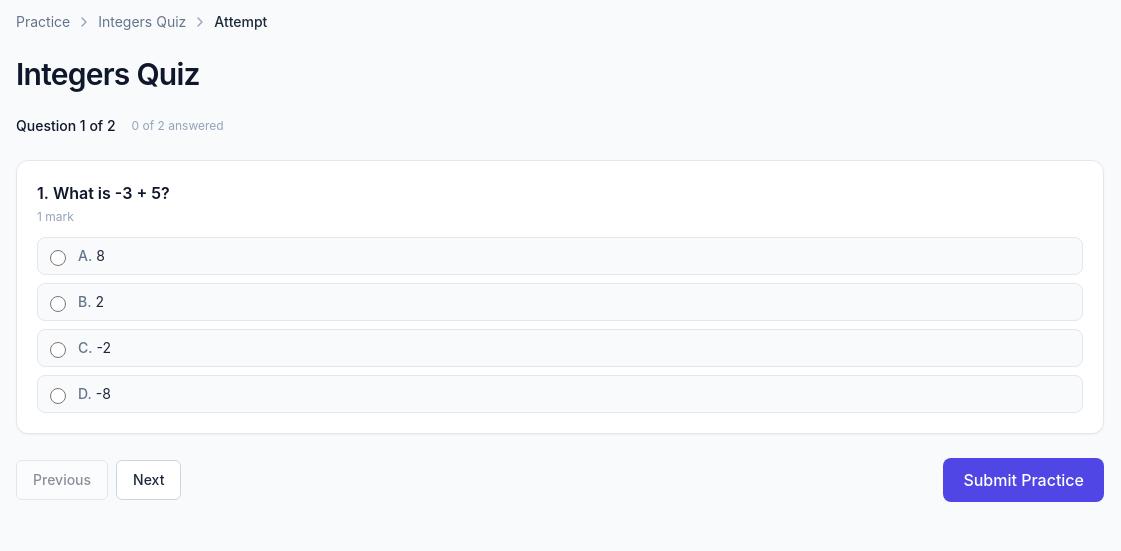
Test: Attempt player (AttemptPage) › selects a single option and saves it via PUT
expect the text "What is -3 + 5?" is shown: met, box 53,183 -> 170,203
Click the radio button labelled "B. 2" at point(58, 304), box 50,296 -> 66,312
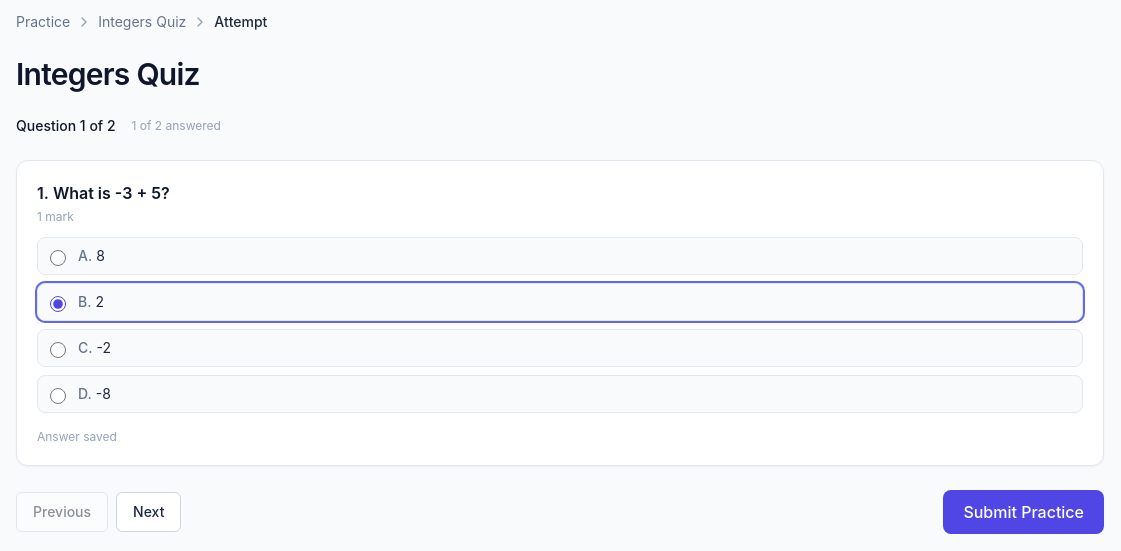
expect the radio button labelled "B. 2" is checked: met, box 50,296 -> 66,312
expect the text "Answer saved" is shown: met, box 37,429 -> 117,444
expect the text "1 of 2 answered" is shown: met, box 132,118 -> 221,134
